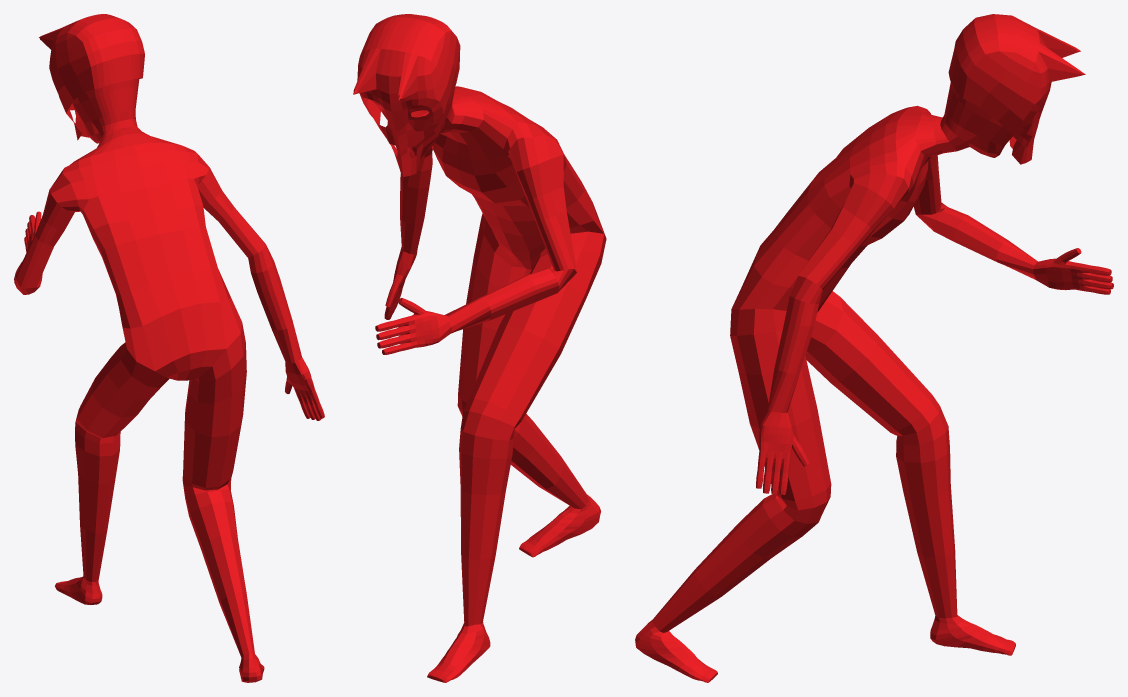
Rendered from saltoadelanteE_000152.obj.
The picture shows the model from 3 angles, left to right: view 1: azimuth 30°, elevation 25°; view 2: azimuth 150°, elevation 25°; view 3: azimuth 270°, elevation 25°; orthographic projection. The views are drawn at different scales.
Visible parts, largest first — view 1: Plane.002_Plane.001; view 2: Plane.002_Plane.001; view 3: Plane.002_Plane.001.
Part boxes in pixels (x1,y1,x2,y2): Plane.002_Plane.001: [14, 14, 324, 682]; Plane.002_Plane.001: [353, 14, 606, 682]; Plane.002_Plane.001: [635, 14, 1113, 682].
Size of the model in its own units: 2.55 by 5.91 by 3.97.
